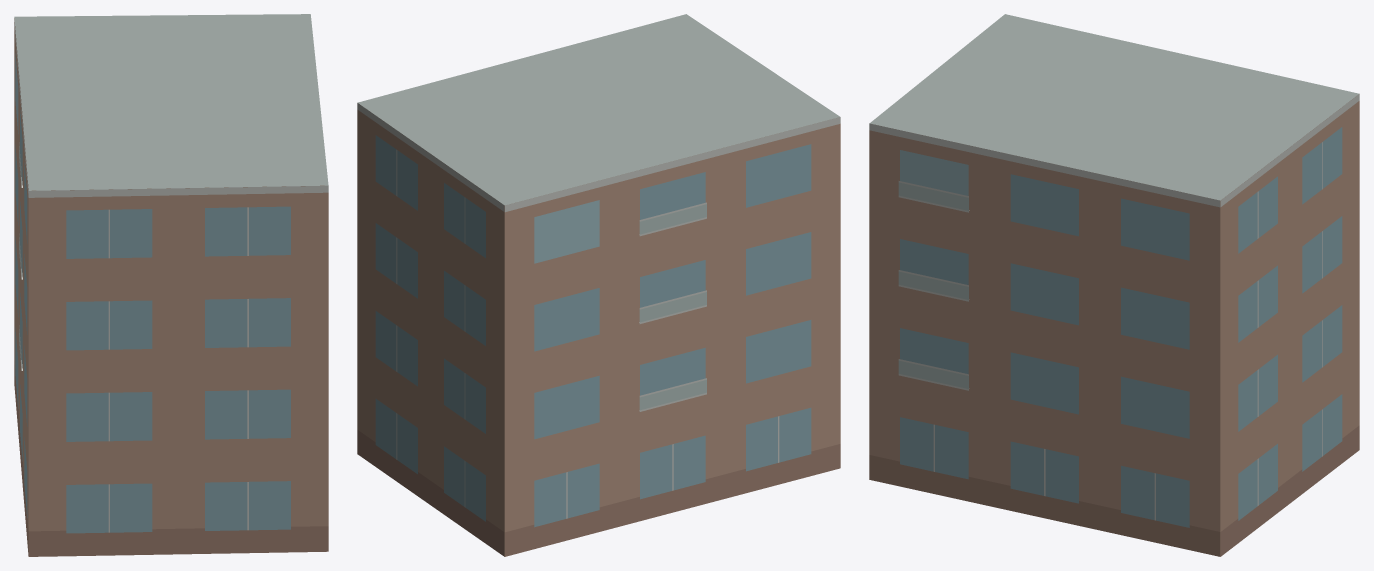
Rendered from survey-upis-32676910.glb.
3 views of the same model, side by side, from view 1: azimuth 30°, elevation 25°; view 2: azimuth 150°, elevation 25°; view 3: azimuth 270°, elevation 25° (orthographic). The views are drawn at different scales.
Parts seen in each view (by area): view 1: survey-upis-32676910.tmp; view 2: survey-upis-32676910.tmp; view 3: survey-upis-32676910.tmp.
Part boxes in pixels (box(x1,y1,x2,y2)): survey-upis-32676910.tmp: box(14, 14, 328, 556); survey-upis-32676910.tmp: box(357, 14, 840, 556); survey-upis-32676910.tmp: box(869, 14, 1359, 556).
Size of the model in its own units: 14.16 by 12.6 by 15.72.
